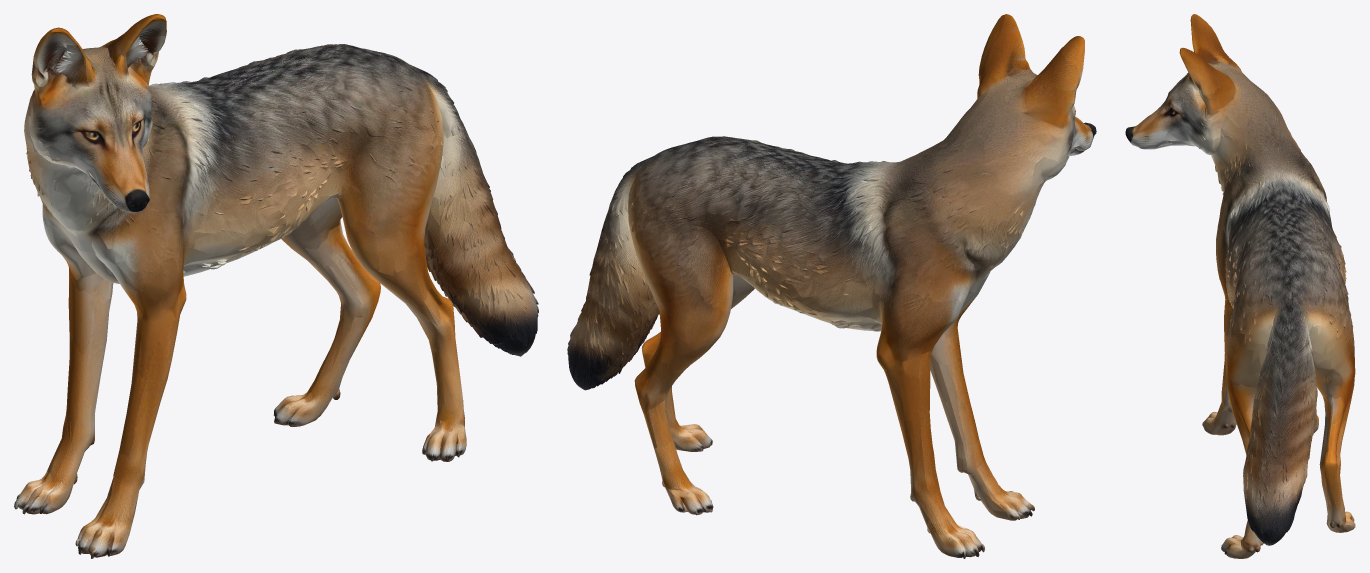
Rendered from coyote.glb.
3 views of the same model, side by side, from view 1: azimuth 30°, elevation 25°; view 2: azimuth 150°, elevation 25°; view 3: azimuth 270°, elevation 25° (orthographic). The views are drawn at different scales.
Size of the model in its own units: 1.9 by 1.84 by 0.9778.
1 material, 1 textured.
